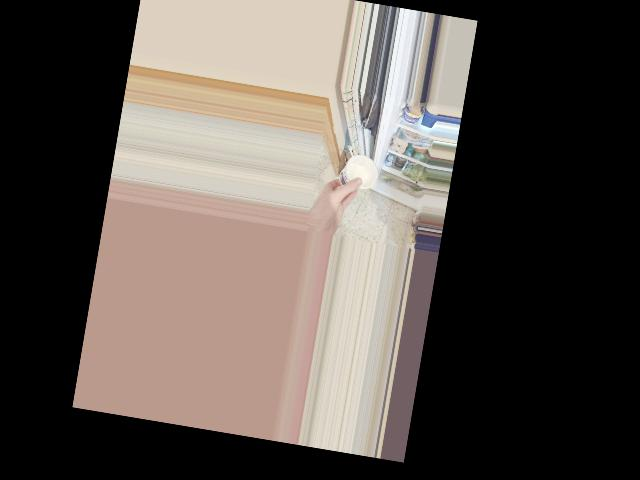cotage: (334, 149, 381, 193)
